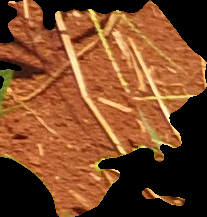soil: (1, 1, 206, 216)
